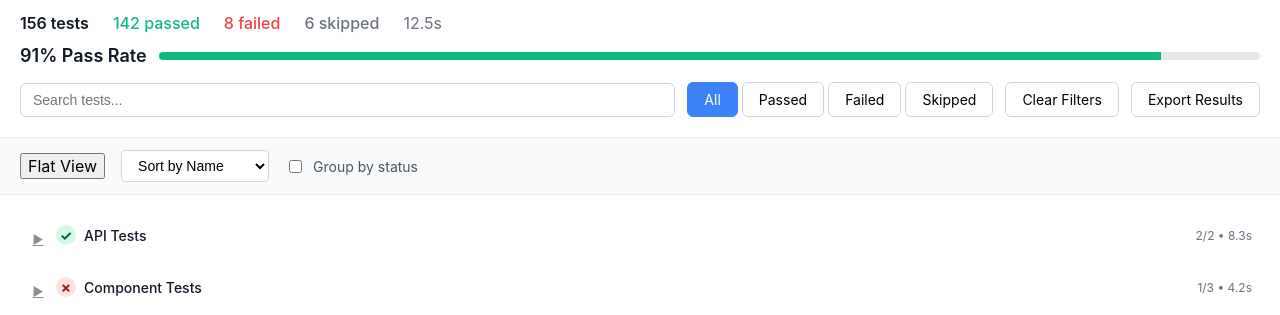
TestResultsView › Filtering and Search › clears filters
Note: Apply filter
Click the button "Failed" at (865, 100), box [828, 82, 901, 117]
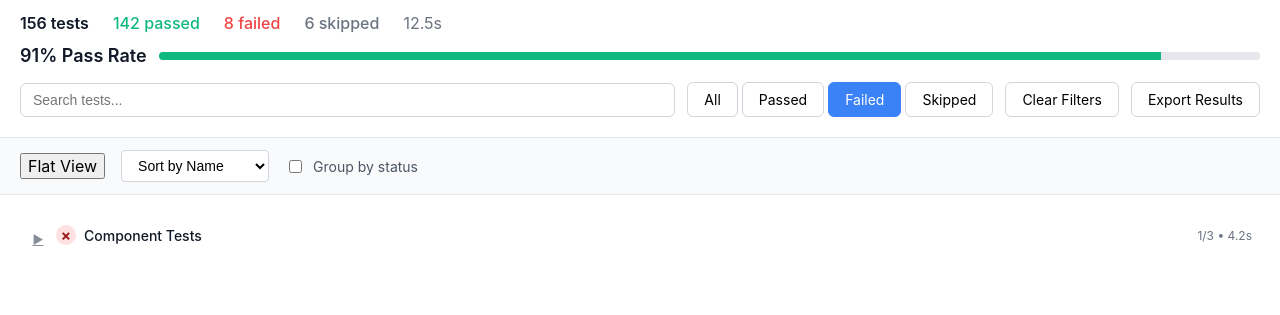
Expected: the text "API Tests" is gone
Note: Clear filters
Click the button "Clear Filters" at (1062, 100), box [1005, 82, 1119, 117]
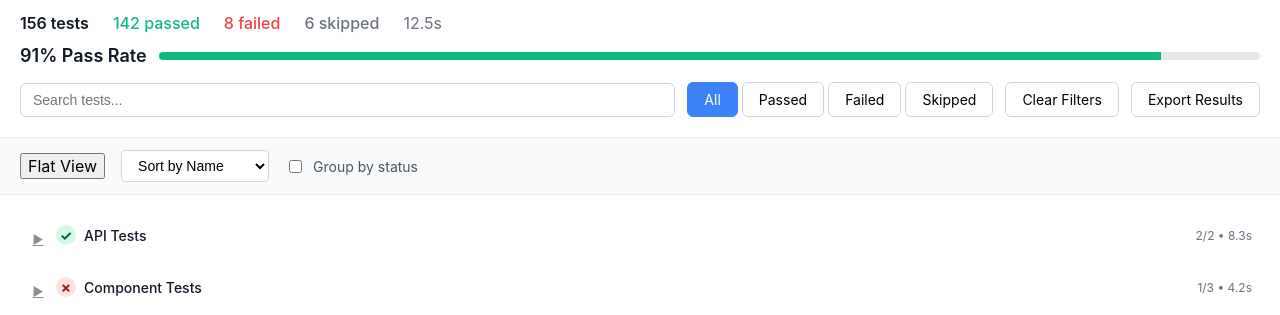
Expected: the text "API Tests" is shown, [84, 226, 146, 244]
